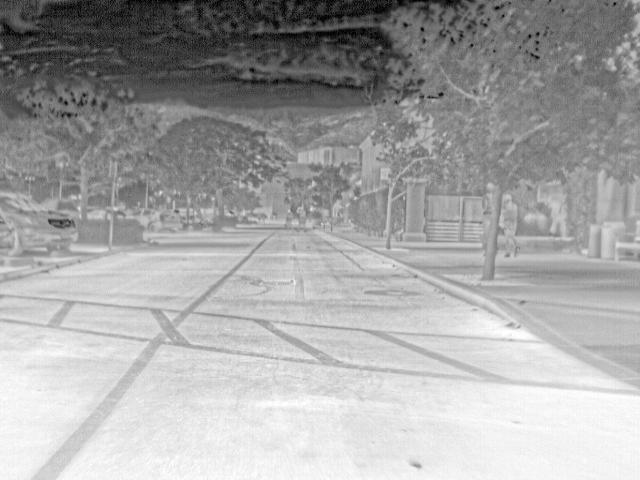car: (0, 192, 78, 254), (145, 208, 183, 235), (42, 198, 76, 212), (88, 208, 110, 221), (127, 208, 145, 220), (113, 207, 129, 220)
person: (499, 194, 520, 258), (480, 198, 491, 232), (298, 210, 307, 231), (283, 212, 293, 230)
